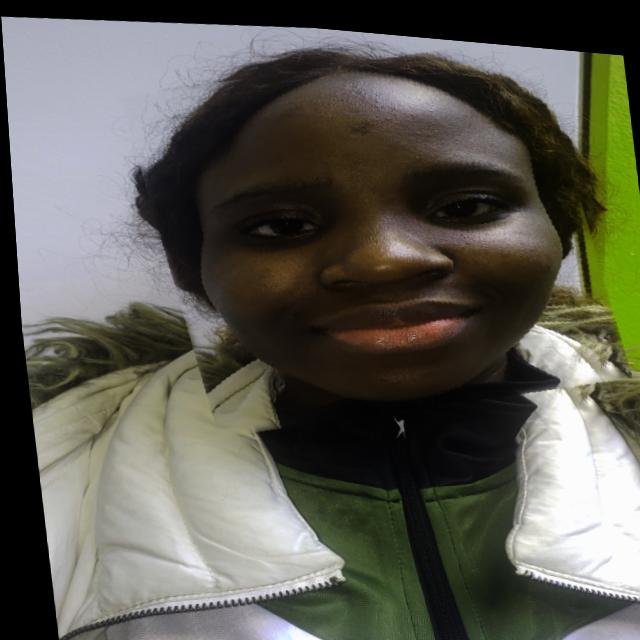happy: (125, 13, 622, 447)
